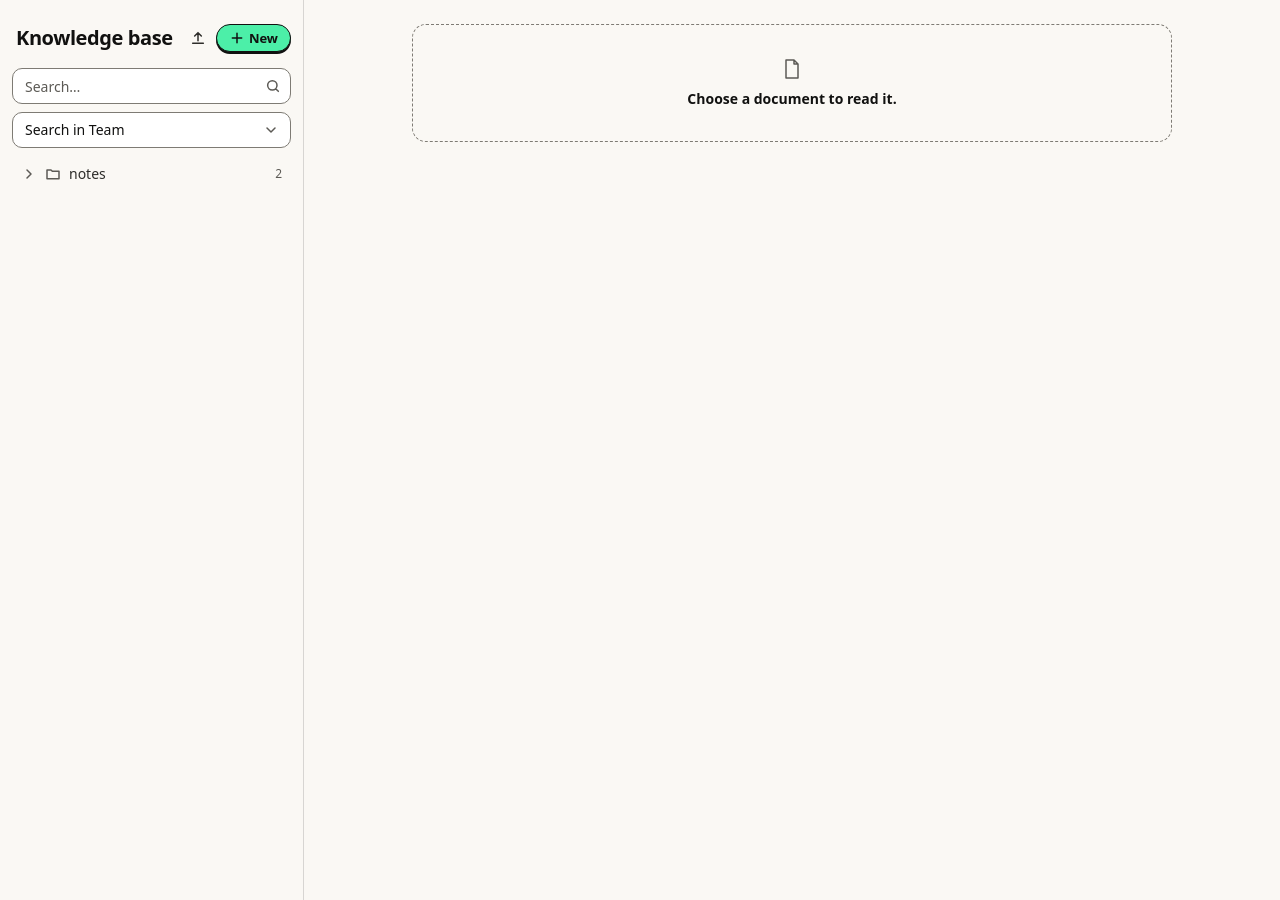
it: a commit message alone is a change that is asked about
Click the button "notes 2" at (87, 174), box 12,160 -> 291,188
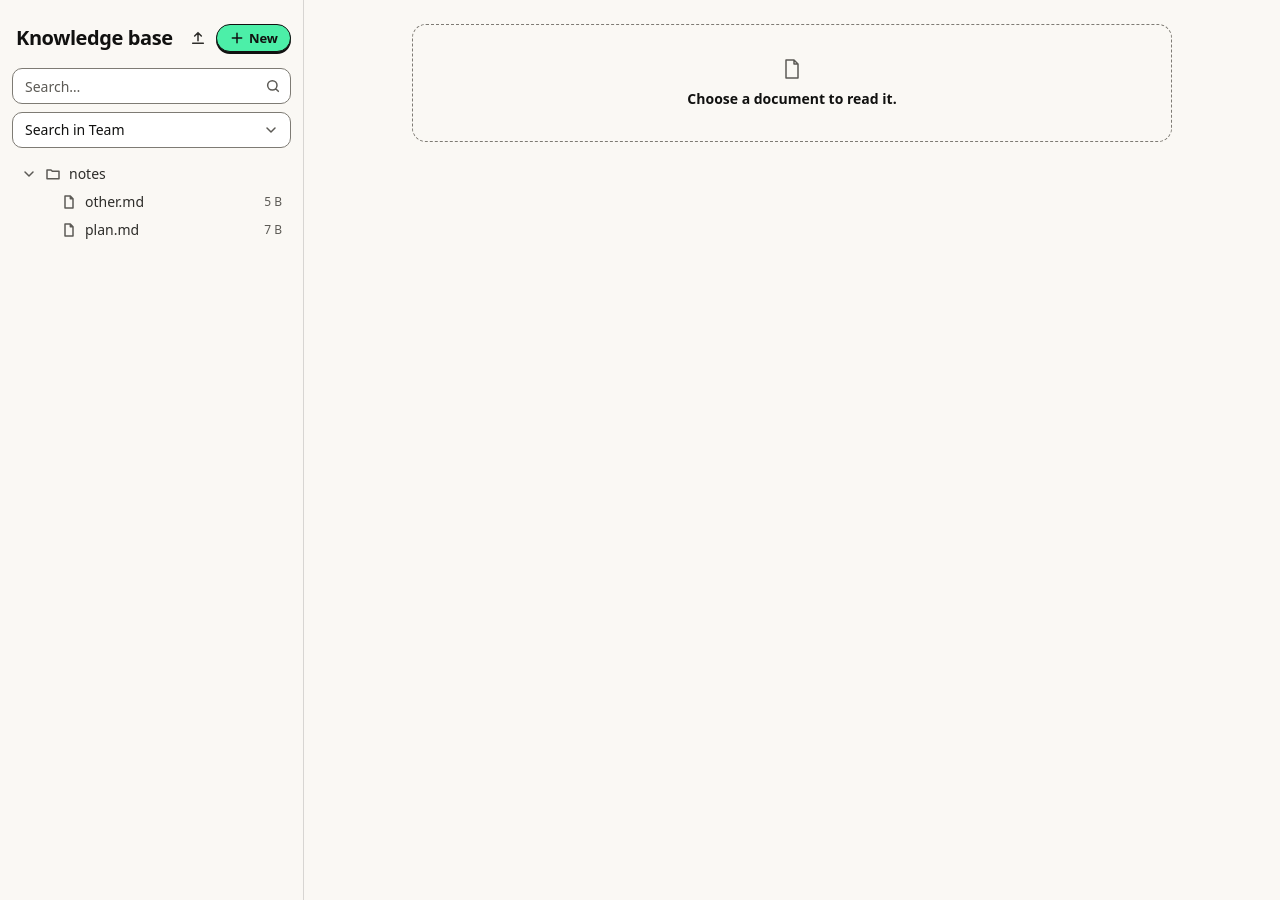
Click the button "plan.md 7 B" at (112, 230), box 12,216 -> 291,244
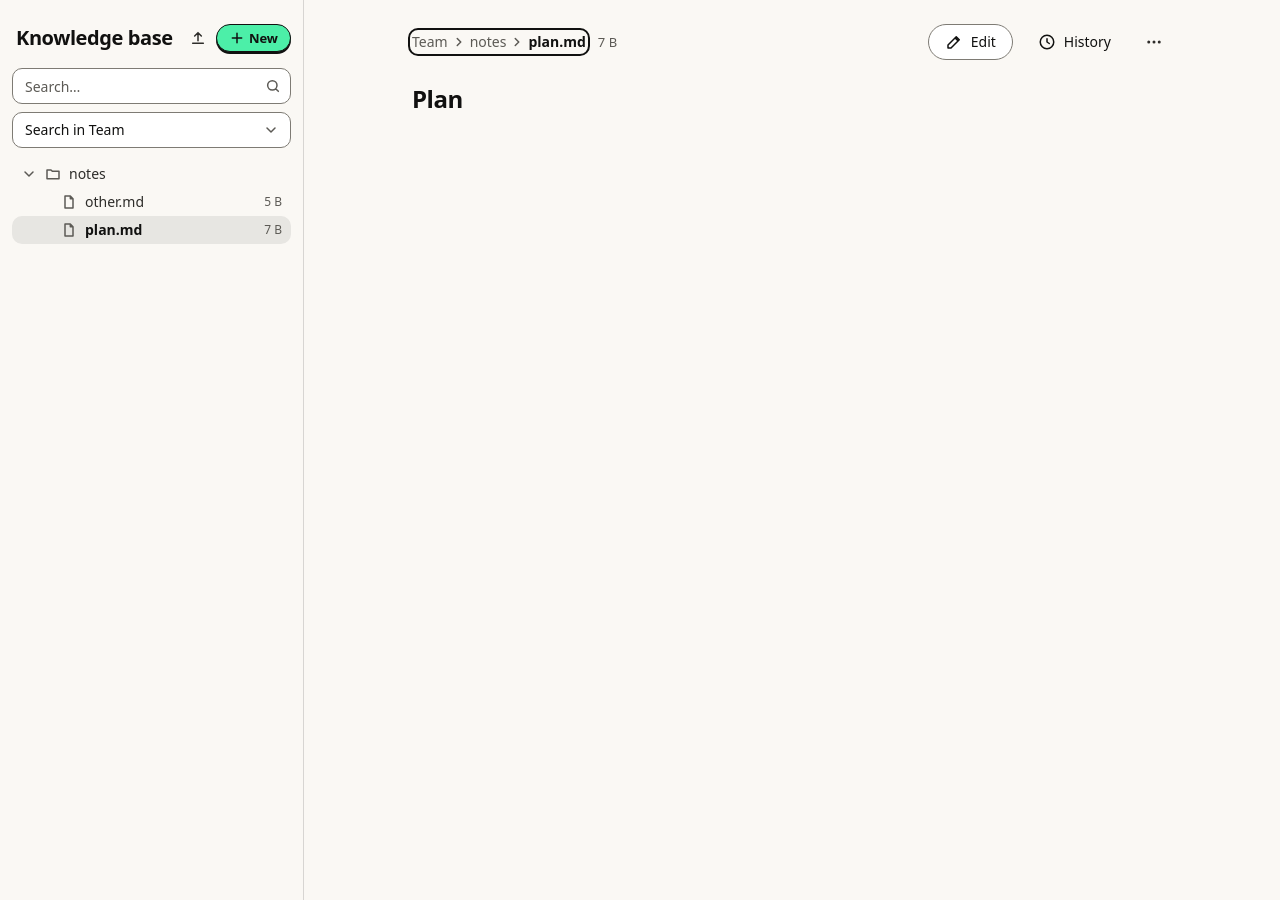
Click the button "Edit" at (970, 42), box 928,24 -> 1013,60
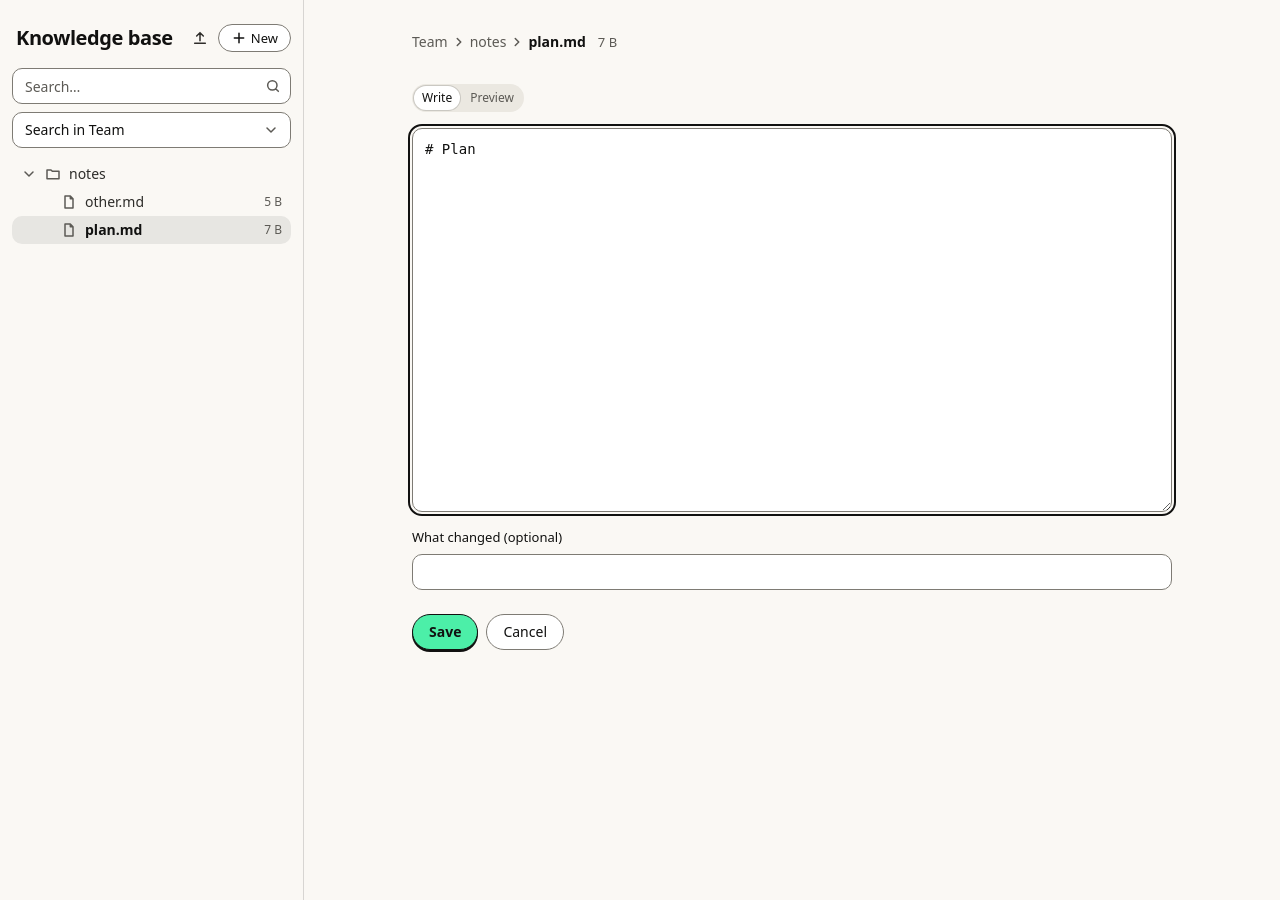
Type "Tidy" into the field labelled "What changed (optional)" at (792, 572), box 412,554 -> 1172,590
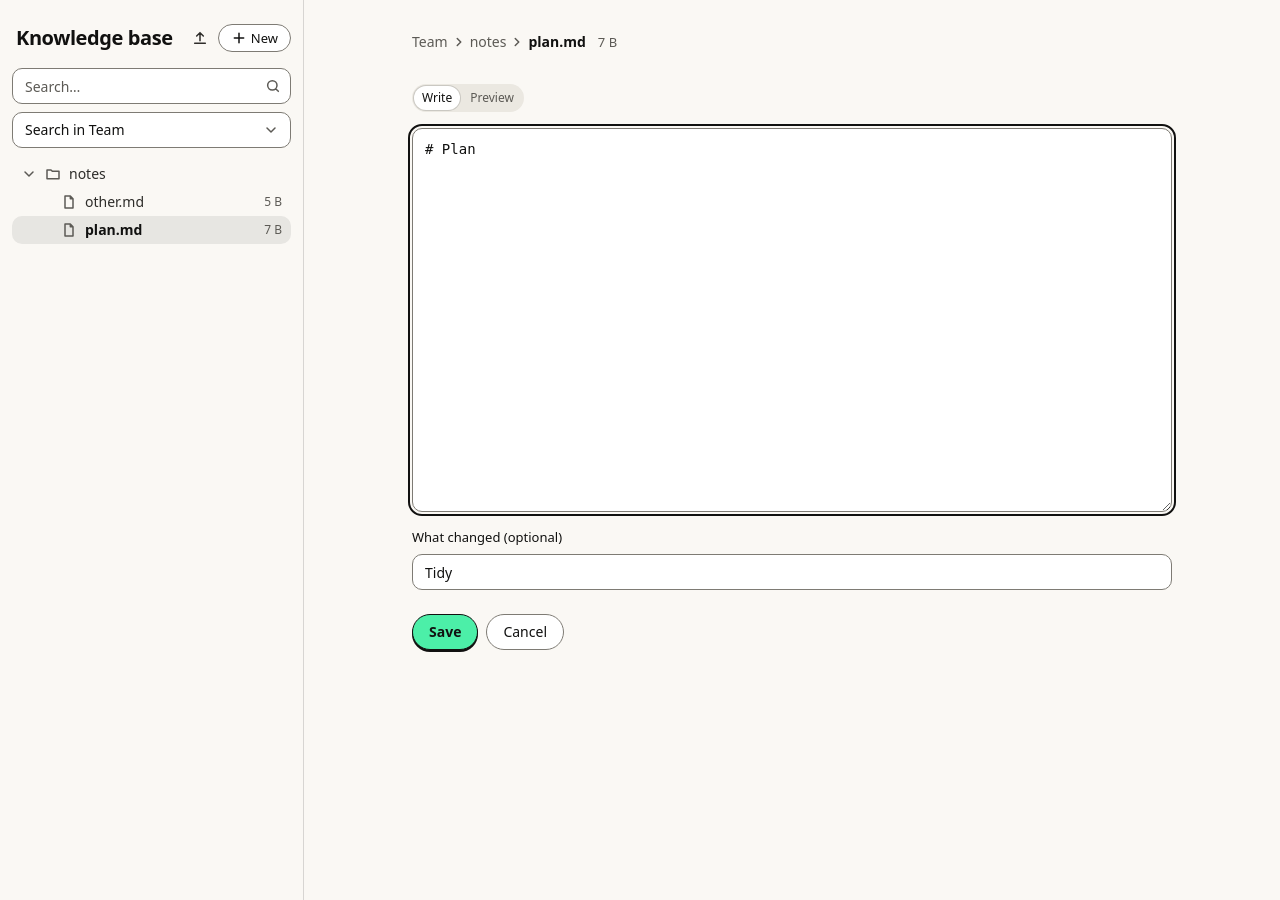
Click the button "Cancel" at (525, 632), box 486,614 -> 564,650
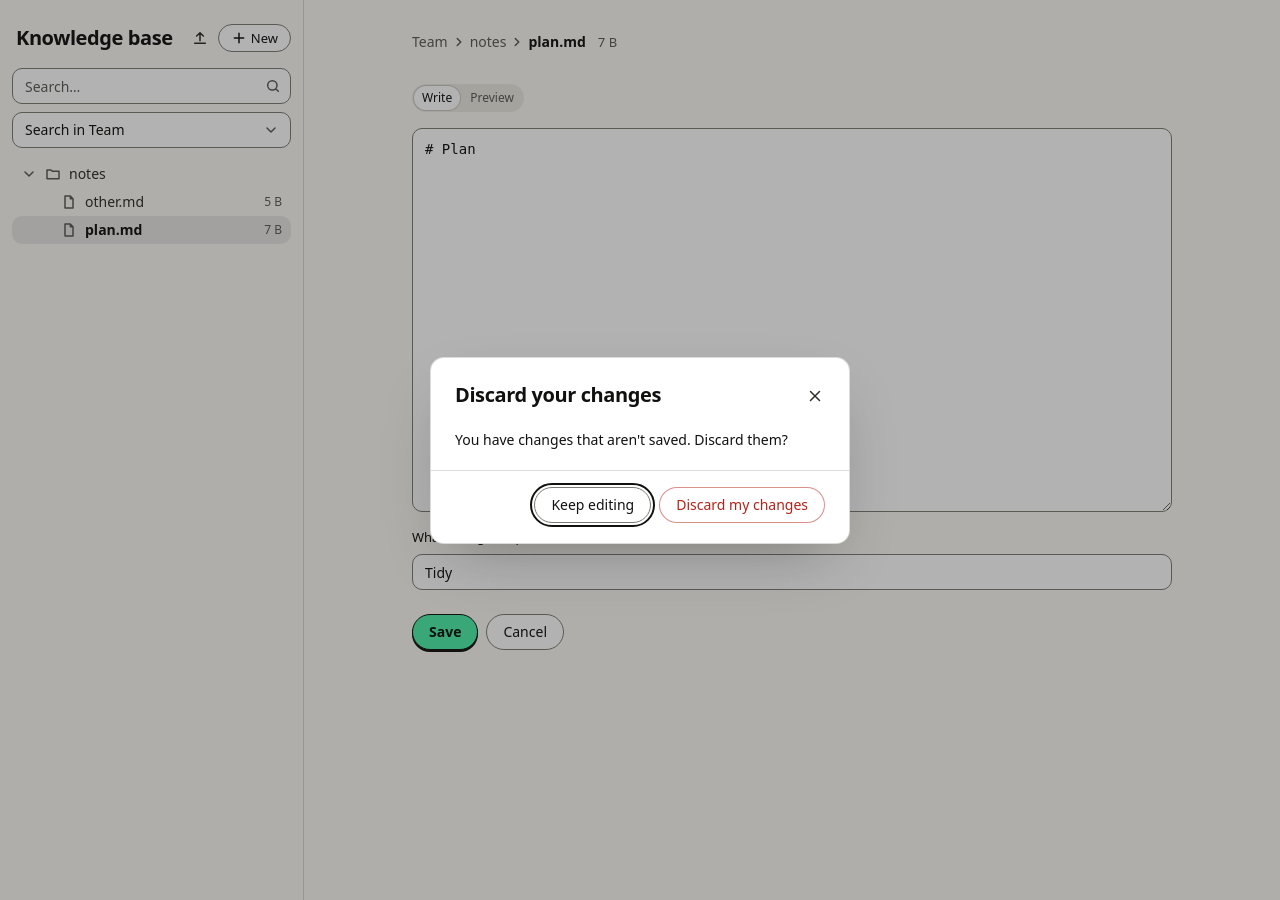
expect the dialog "Discard your changes" is shown: met, box 430,356 -> 850,544
